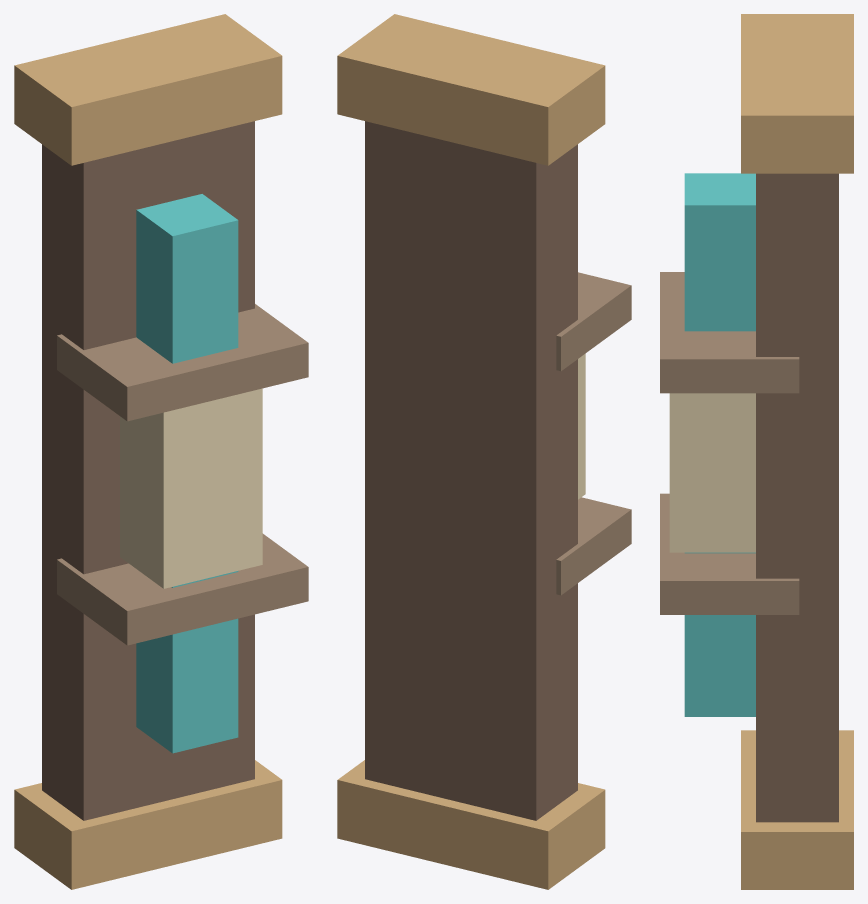
The model's file is gallery-wall-sconce.glb.
3 views of the same model, side by side, from view 1: azimuth 30°, elevation 25°; view 2: azimuth 150°, elevation 25°; view 3: azimuth 270°, elevation 25° (orthographic).
Size of the model in its own units: 0.64 by 2.27 by 0.515.
